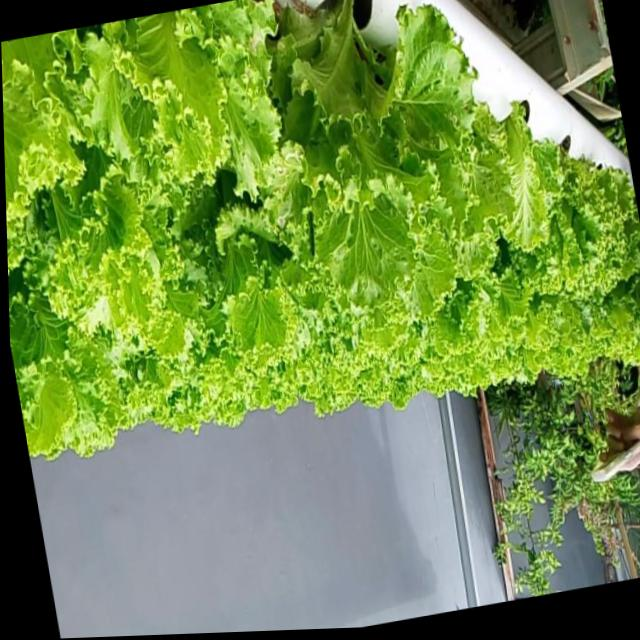Mature: (1, 0, 640, 463), (252, 3, 451, 300), (483, 127, 639, 334)
